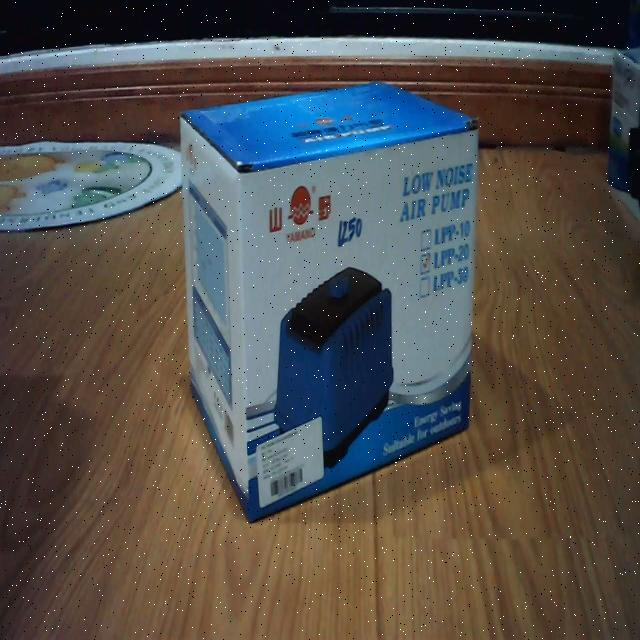YAMANO_LPP_20: (170, 73, 494, 536)
